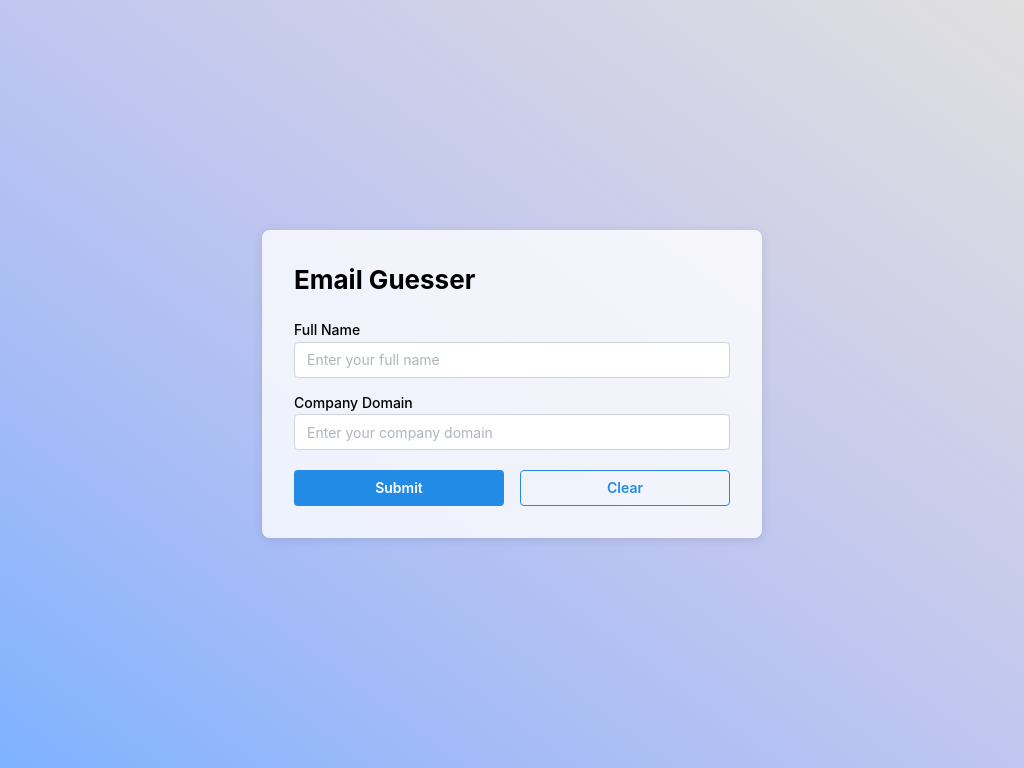
Scenario: EmailGuesserForm › clears form when Clear button is clicked
Type "John Doe" into the field labelled "Full Name" at (512, 360), box 294,342 -> 730,378
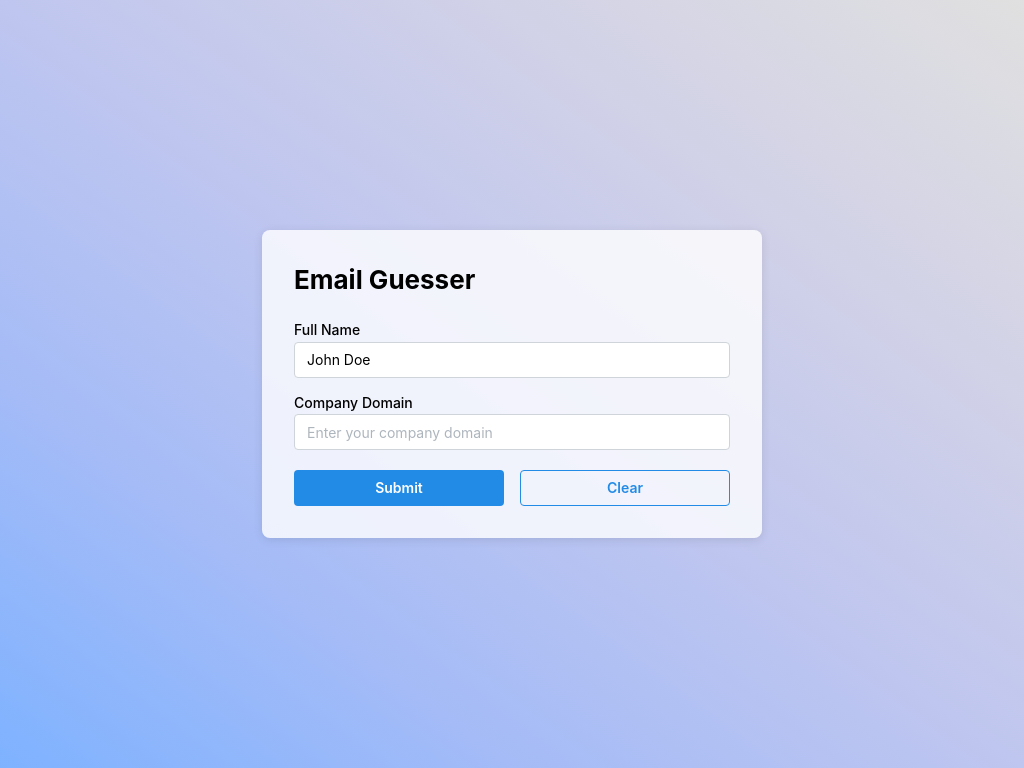
Type "babbel.com" into the field labelled "Company Domain" at (512, 432), box 294,414 -> 730,450
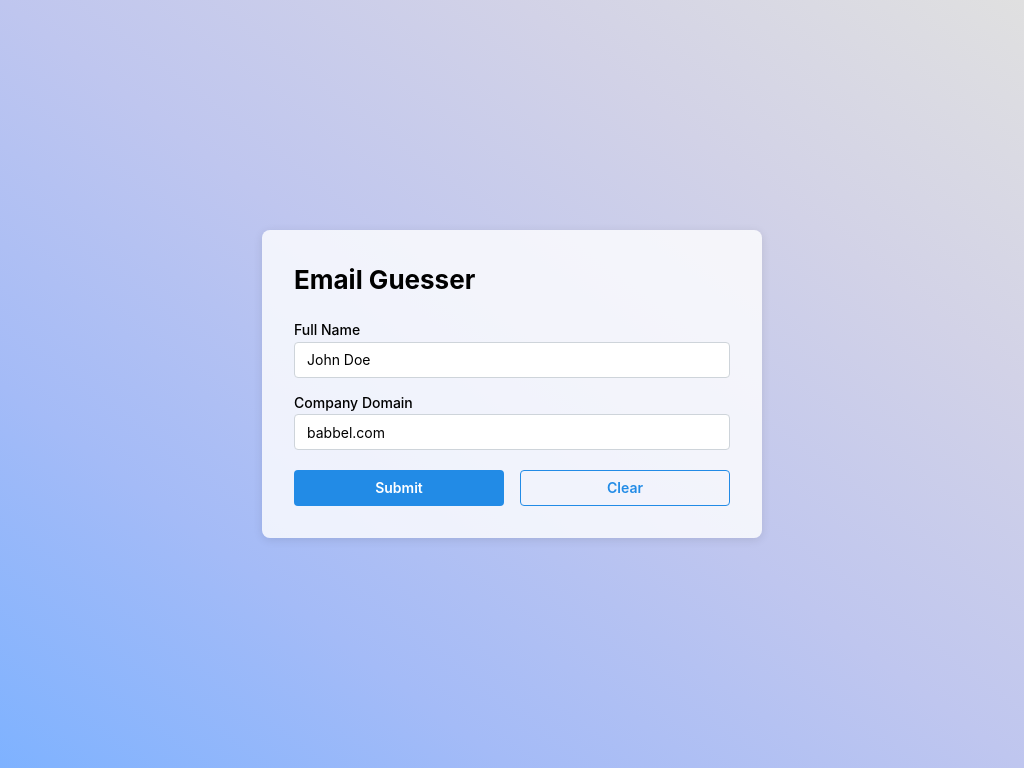
Click the button "Clear" at (625, 488), box 520,470 -> 730,506
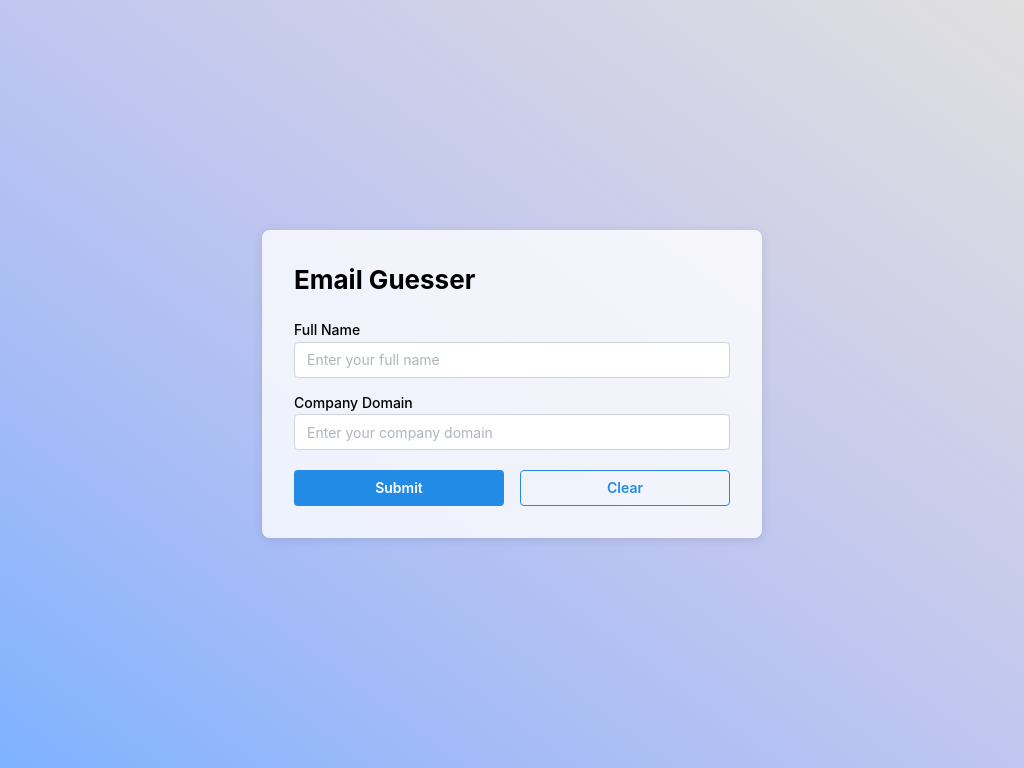
Result: the field labelled "Full Name" is empty at 294,342 -> 730,378
Result: the field labelled "Company Domain" is empty at 294,414 -> 730,450
